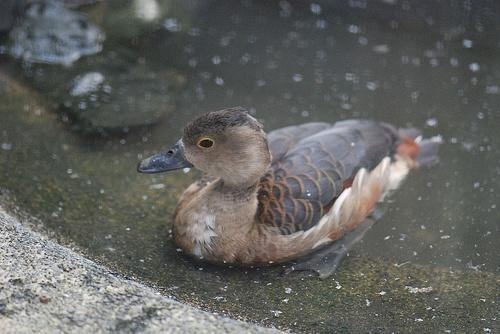bird: (137, 109, 419, 281)
